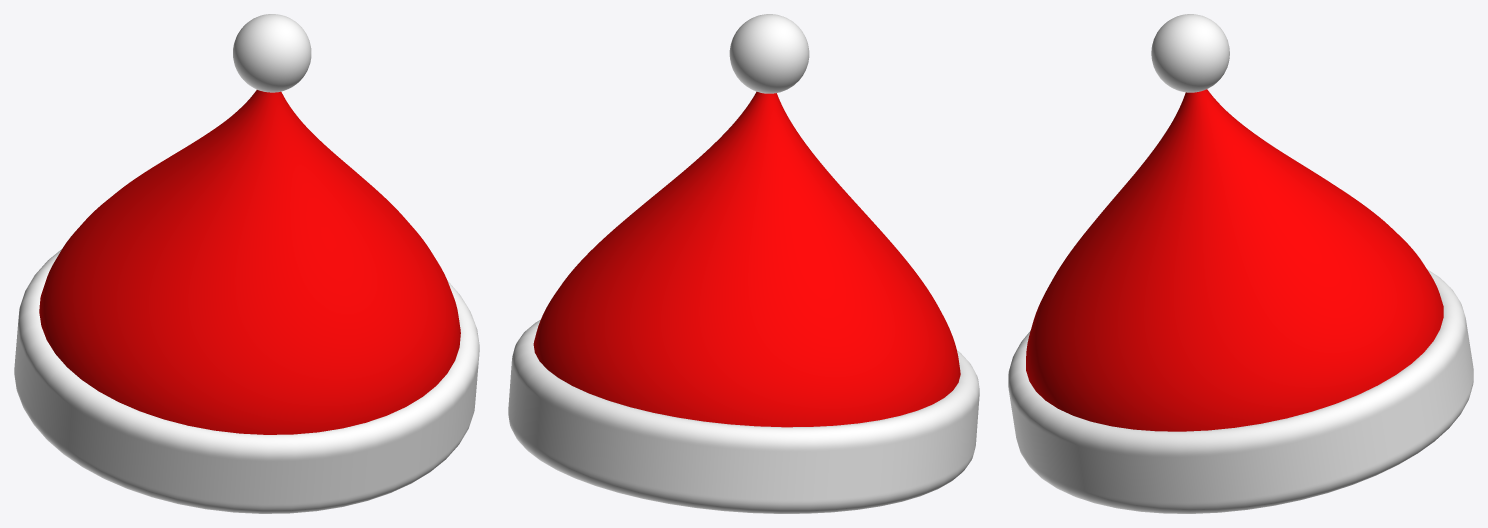
The model's file is santasHat.gltf.
3 renders of one model, left to right at view 1: azimuth 30°, elevation 25°; view 2: azimuth 150°, elevation 25°; view 3: azimuth 270°, elevation 25°, orthographic.
Parts seen in each view (by area): view 1: Boole.1-Mat, Boole.1-Mat.1; view 2: Boole.1-Mat, Boole.1-Mat.1; view 3: Boole.1-Mat, Boole.1-Mat.1.
Part boxes in pixels (x1,y1,x2,y2): Boole.1-Mat: (39, 90, 460, 434); Boole.1-Mat.1: (14, 14, 479, 513); Boole.1-Mat: (533, 91, 960, 427); Boole.1-Mat.1: (508, 14, 979, 513); Boole.1-Mat: (1026, 89, 1443, 431); Boole.1-Mat.1: (1008, 14, 1473, 513).
Bounding box in the file's own units: 9.4 × 9.58 × 9.45.
